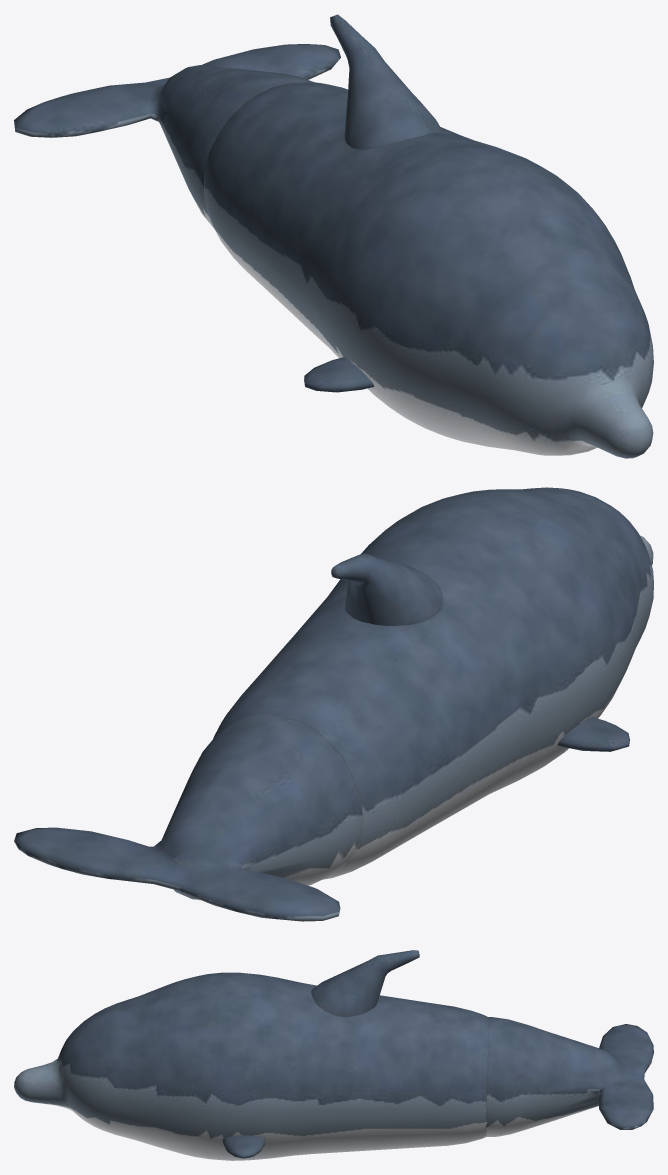
File: dolphin.glb
The picture shows the model from 3 angles, top to bottom: view 1: azimuth 30°, elevation 25°; view 2: azimuth 150°, elevation 25°; view 3: azimuth 270°, elevation 25°; orthographic projection. The views are drawn at different scales.
Visible parts, largest first — view 1: dolphin, tail; view 2: dolphin, tail; view 3: dolphin, tail.
Part boxes in pixels (x1,y1,x2,y2): dolphin: (204,14,653,458); tail: (14,44,340,228); dolphin: (213,487,653,879); tail: (14,712,362,921); dolphin: (14,950,489,1160); tail: (485,1017,653,1136).
Size of the model in its own units: 0.3998 by 0.3606 by 1.04.
1 material, 1 textured.
